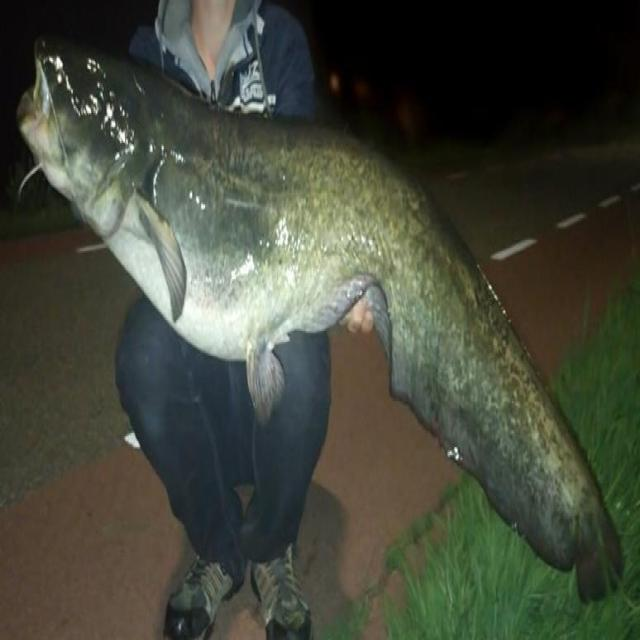Catfish: (16, 34, 634, 624)
